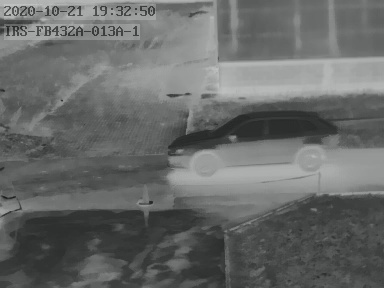vehicle: (167, 110, 339, 178)
